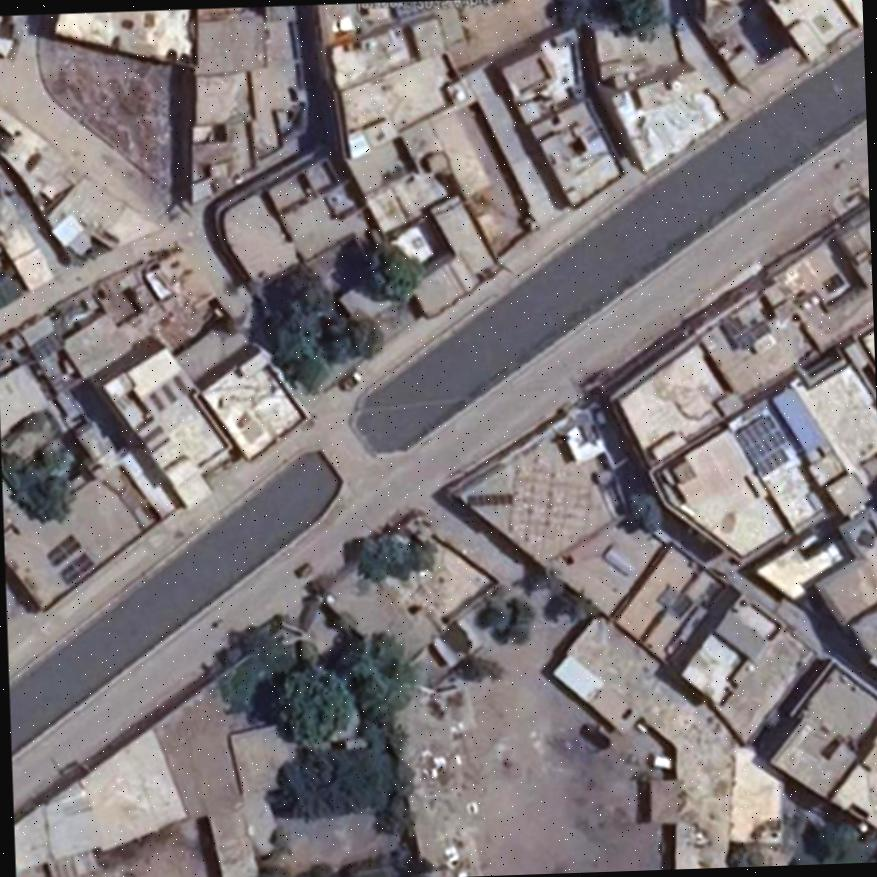Solarpanel: (735, 413, 794, 476), (43, 533, 80, 566), (60, 550, 93, 583)
